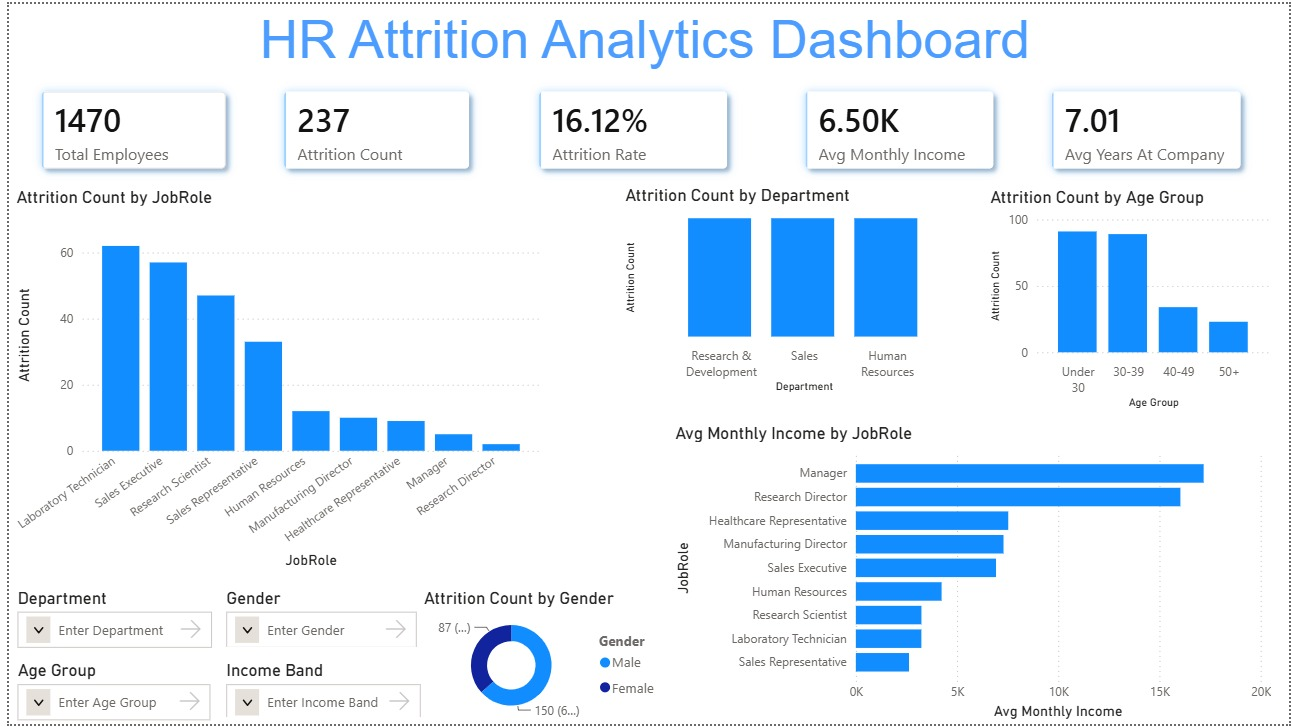

The dashboard page shown, as its layout file describes it:
{"tool":"powerbi","page":{"name":"Page 1","canvas":[1280,720],"ordinal":0},"visuals":[{"type":"cardVisual","fields":{"Data":["WA_Fn-UseC_-HR-Employee-Attriti.Total Employees"]},"box":[3.1,59.3,242.5,135.1],"z":0},{"type":"cardVisual","fields":{"Data":["WA_Fn-UseC_-HR-Employee-Attriti.Attrition Count"]},"box":[245.6,59.3,243.7,135.1],"z":1000},{"type":"cardVisual","fields":{"Data":["WA_Fn-UseC_-HR-Employee-Attriti.Attrition Rate"]},"box":[501.4,59.3,246.1,135.1],"z":2000},{"type":"cardVisual","fields":{"Data":["WA_Fn-UseC_-HR-Employee-Attriti.Avg Monthly Income"]},"box":[767.3,59.1,246.1,135.1],"z":3000},{"type":"cardVisual","fields":{"Data":["WA_Fn-UseC_-HR-Employee-Attriti.Avg Years At Company"]},"box":[1013.4,59.1,247.3,135.1],"z":4000},{"type":"hundredPercentStackedColumnChart","fields":{"Category":["WA_Fn-UseC_-HR-Employee-Attriti.Department"],"Y":["WA_Fn-UseC_-HR-Employee-Attriti.Attrition Count"]},"box":[611.7,181,339,212.3],"z":5000},{"type":"clusteredColumnChart","fields":{"Category":["WA_Fn-UseC_-HR-Employee-Attriti.JobRole"],"Y":["WA_Fn-UseC_-HR-Employee-Attriti.Attrition Count"]},"box":[1.9,182.4,533.2,387.3],"z":6000},{"type":"textSlicer","fields":{"Values":["WA_Fn-UseC_-HR-Employee-Attriti.Gender"]},"box":[213.1,584.1,200.3,59.1],"z":7000},{"type":"clusteredBarChart","fields":{"Category":["WA_Fn-UseC_-HR-Employee-Attriti.JobRole"],"Y":["WA_Fn-UseC_-HR-Employee-Attriti.Avg Monthly Income"]},"box":[660.6,418.9,605.6,301.6],"z":8000},{"type":"donutChart","fields":{"Category":["WA_Fn-UseC_-HR-Employee-Attriti.Gender"],"Y":["WA_Fn-UseC_-HR-Employee-Attriti.Attrition Count"]},"box":[410.2,583.9,250.9,136.3],"z":9000},{"type":"textSlicer","fields":{"Values":["WA_Fn-UseC_-HR-Employee-Attriti.Department"]},"box":[4.3,584.1,203.9,65.1],"z":10000},{"type":"textSlicer","fields":{"Values":["WA_Fn-UseC_-HR-Employee-Attriti.Age Group"]},"box":[4.3,656.5,202.7,63.9],"z":11000},{"type":"textSlicer","fields":{"Values":["WA_Fn-UseC_-HR-Employee-Attriti.Income Band"]},"box":[213.1,656.5,203.9,56.7],"z":12000},{"type":"clusteredColumnChart","fields":{"Category":["WA_Fn-UseC_-HR-Employee-Attriti.Age Group"],"Y":["WA_Fn-UseC_-HR-Employee-Attriti.Attrition Count"]},"box":[976.7,182.4,289.5,226.8],"z":13000},{"type":"textbox","box":[4.8,0,1261.9,71.2],"z":13001}]}

Visuals, with their boxes in screenshot pixels (x1, y1, x2, y2), scaled from the page's 1280x720 canvas onto the 1292x727 screenshot:
cardVisual - WA_Fn-UseC_-HR-Employee-Attriti.Total Employees: (left=3, top=60, right=248, bottom=196)
cardVisual - WA_Fn-UseC_-HR-Employee-Attriti.Attrition Count: (left=248, top=60, right=494, bottom=196)
cardVisual - WA_Fn-UseC_-HR-Employee-Attriti.Attrition Rate: (left=506, top=60, right=755, bottom=196)
cardVisual - WA_Fn-UseC_-HR-Employee-Attriti.Avg Monthly Income: (left=774, top=60, right=1023, bottom=196)
cardVisual - WA_Fn-UseC_-HR-Employee-Attriti.Avg Years At Company: (left=1023, top=60, right=1273, bottom=196)
hundredPercentStackedColumnChart - WA_Fn-UseC_-HR-Employee-Attriti.Department x WA_Fn-UseC_-HR-Employee-Attriti.Attrition Count: (left=617, top=183, right=960, bottom=397)
clusteredColumnChart - WA_Fn-UseC_-HR-Employee-Attriti.JobRole x WA_Fn-UseC_-HR-Employee-Attriti.Attrition Count: (left=2, top=184, right=540, bottom=575)
textSlicer - WA_Fn-UseC_-HR-Employee-Attriti.Gender: (left=215, top=590, right=417, bottom=649)
clusteredBarChart - WA_Fn-UseC_-HR-Employee-Attriti.JobRole x WA_Fn-UseC_-HR-Employee-Attriti.Avg Monthly Income: (left=667, top=423, right=1278, bottom=726)
donutChart - WA_Fn-UseC_-HR-Employee-Attriti.Gender x WA_Fn-UseC_-HR-Employee-Attriti.Attrition Count: (left=414, top=590, right=667, bottom=726)
textSlicer - WA_Fn-UseC_-HR-Employee-Attriti.Department: (left=4, top=590, right=210, bottom=656)
textSlicer - WA_Fn-UseC_-HR-Employee-Attriti.Age Group: (left=4, top=663, right=209, bottom=726)
textSlicer - WA_Fn-UseC_-HR-Employee-Attriti.Income Band: (left=215, top=663, right=421, bottom=720)
clusteredColumnChart - WA_Fn-UseC_-HR-Employee-Attriti.Age Group x WA_Fn-UseC_-HR-Employee-Attriti.Attrition Count: (left=986, top=184, right=1278, bottom=413)
textbox: (left=5, top=0, right=1279, bottom=72)
